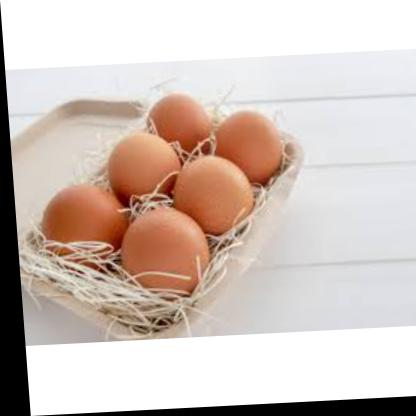egg: (32, 177, 126, 285), (111, 203, 210, 304), (164, 152, 255, 241), (100, 126, 180, 219), (203, 106, 285, 193), (141, 90, 214, 163)
